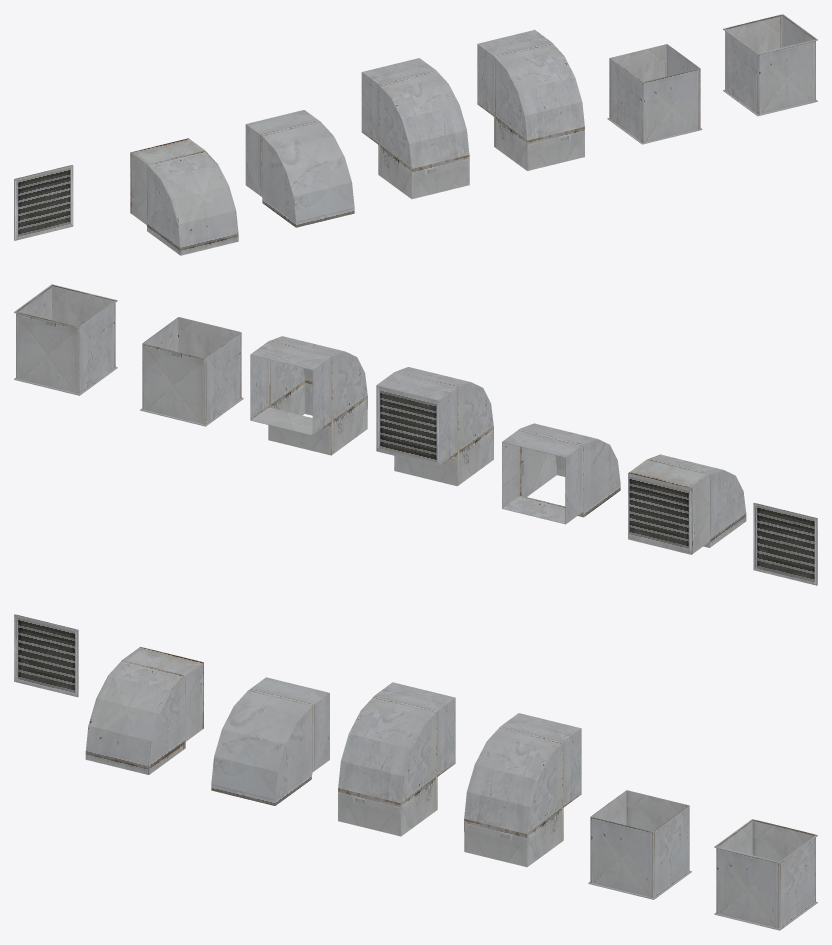
Rendered from psx_style_modular_vents.glb.
3 renders of one model, top to bottom at view 1: azimuth 30°, elevation 25°; view 2: azimuth 150°, elevation 25°; view 3: azimuth 330°, elevation 25°, orthographic. The views are drawn at different scales.
Parts seen in each view (by area): view 1: connector_closed_35, connector_38, end_31, end_closed_32, straight_double_34, straingt_single_0, vent_cover_33; view 2: connector_closed_35, connector_38, end_closed_32, straight_double_34, straingt_single_0, end_31, vent_cover_33; view 3: connector_38, connector_closed_35, end_31, end_closed_32, straight_double_34, straingt_single_0, vent_cover_33.
Boxes of the visible parts, bbox=[...] form: connector_closed_35: bbox=[361, 58, 469, 198]; connector_38: bbox=[477, 30, 584, 170]; end_31: bbox=[245, 110, 354, 227]; end_closed_32: bbox=[130, 138, 238, 255]; straight_double_34: bbox=[723, 14, 817, 116]; straingt_single_0: bbox=[607, 44, 702, 144]; vent_cover_33: bbox=[14, 165, 73, 240]; connector_closed_35: bbox=[376, 367, 493, 486]; connector_38: bbox=[250, 336, 367, 455]; end_closed_32: bbox=[628, 454, 746, 554]; straight_double_34: bbox=[14, 284, 117, 395]; straingt_single_0: bbox=[140, 317, 243, 426]; end_31: bbox=[502, 423, 620, 524]; vent_cover_33: bbox=[753, 502, 817, 585]; connector_38: bbox=[464, 713, 581, 867]; connector_closed_35: bbox=[338, 682, 455, 836]; end_31: bbox=[211, 677, 329, 805]; end_closed_32: bbox=[85, 647, 203, 774]; straight_double_34: bbox=[714, 819, 817, 930]; straingt_single_0: bbox=[588, 790, 691, 899]; vent_cover_33: bbox=[14, 614, 78, 697].
Bounding box in the file's own units: 13.03 × 1.51 × 1.55.
1 material, 1 textured.
